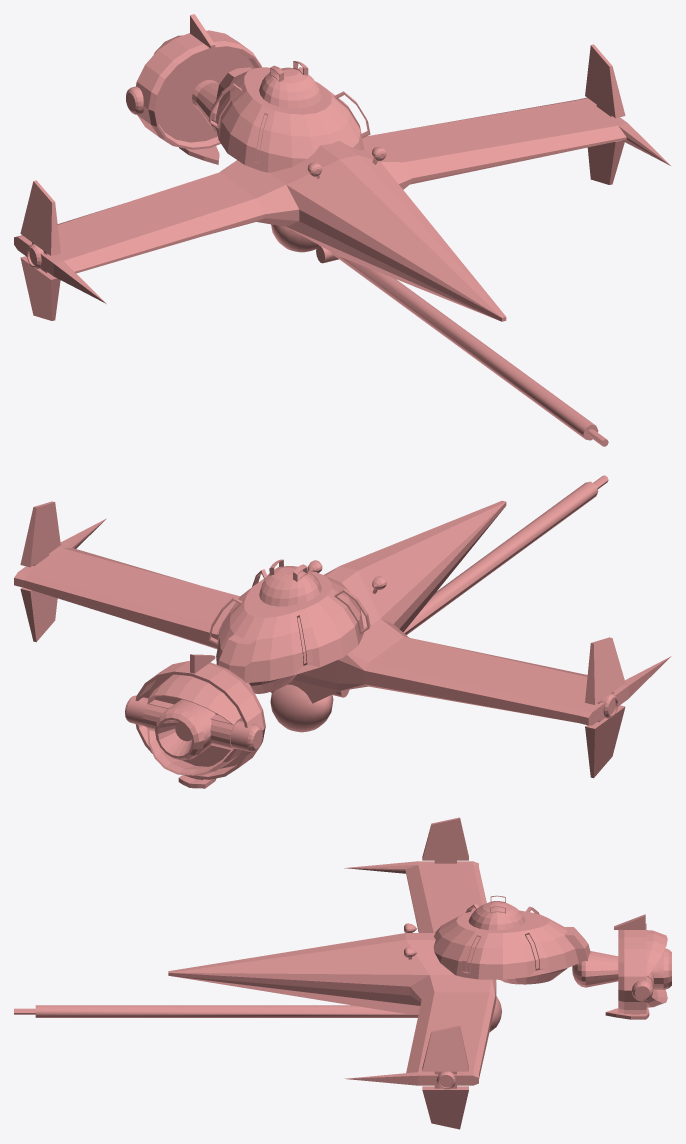
File: swordfish.obj
The picture shows the model from 3 angles, top to bottom: view 1: azimuth 30°, elevation 25°; view 2: azimuth 150°, elevation 25°; view 3: azimuth 270°, elevation 25°; orthographic projection. The views are drawn at different scales.
Visible parts, largest first — view 1: ship_hull; view 2: ship_hull; view 3: ship_hull.
Boxes of the visible parts, box(x1,y1,x2,y2) form: ship_hull: box(14, 14, 670, 446); ship_hull: box(14, 475, 671, 788); ship_hull: box(14, 817, 671, 1129).
Bounding box in the file's own units: 164 × 47.22 × 210.
